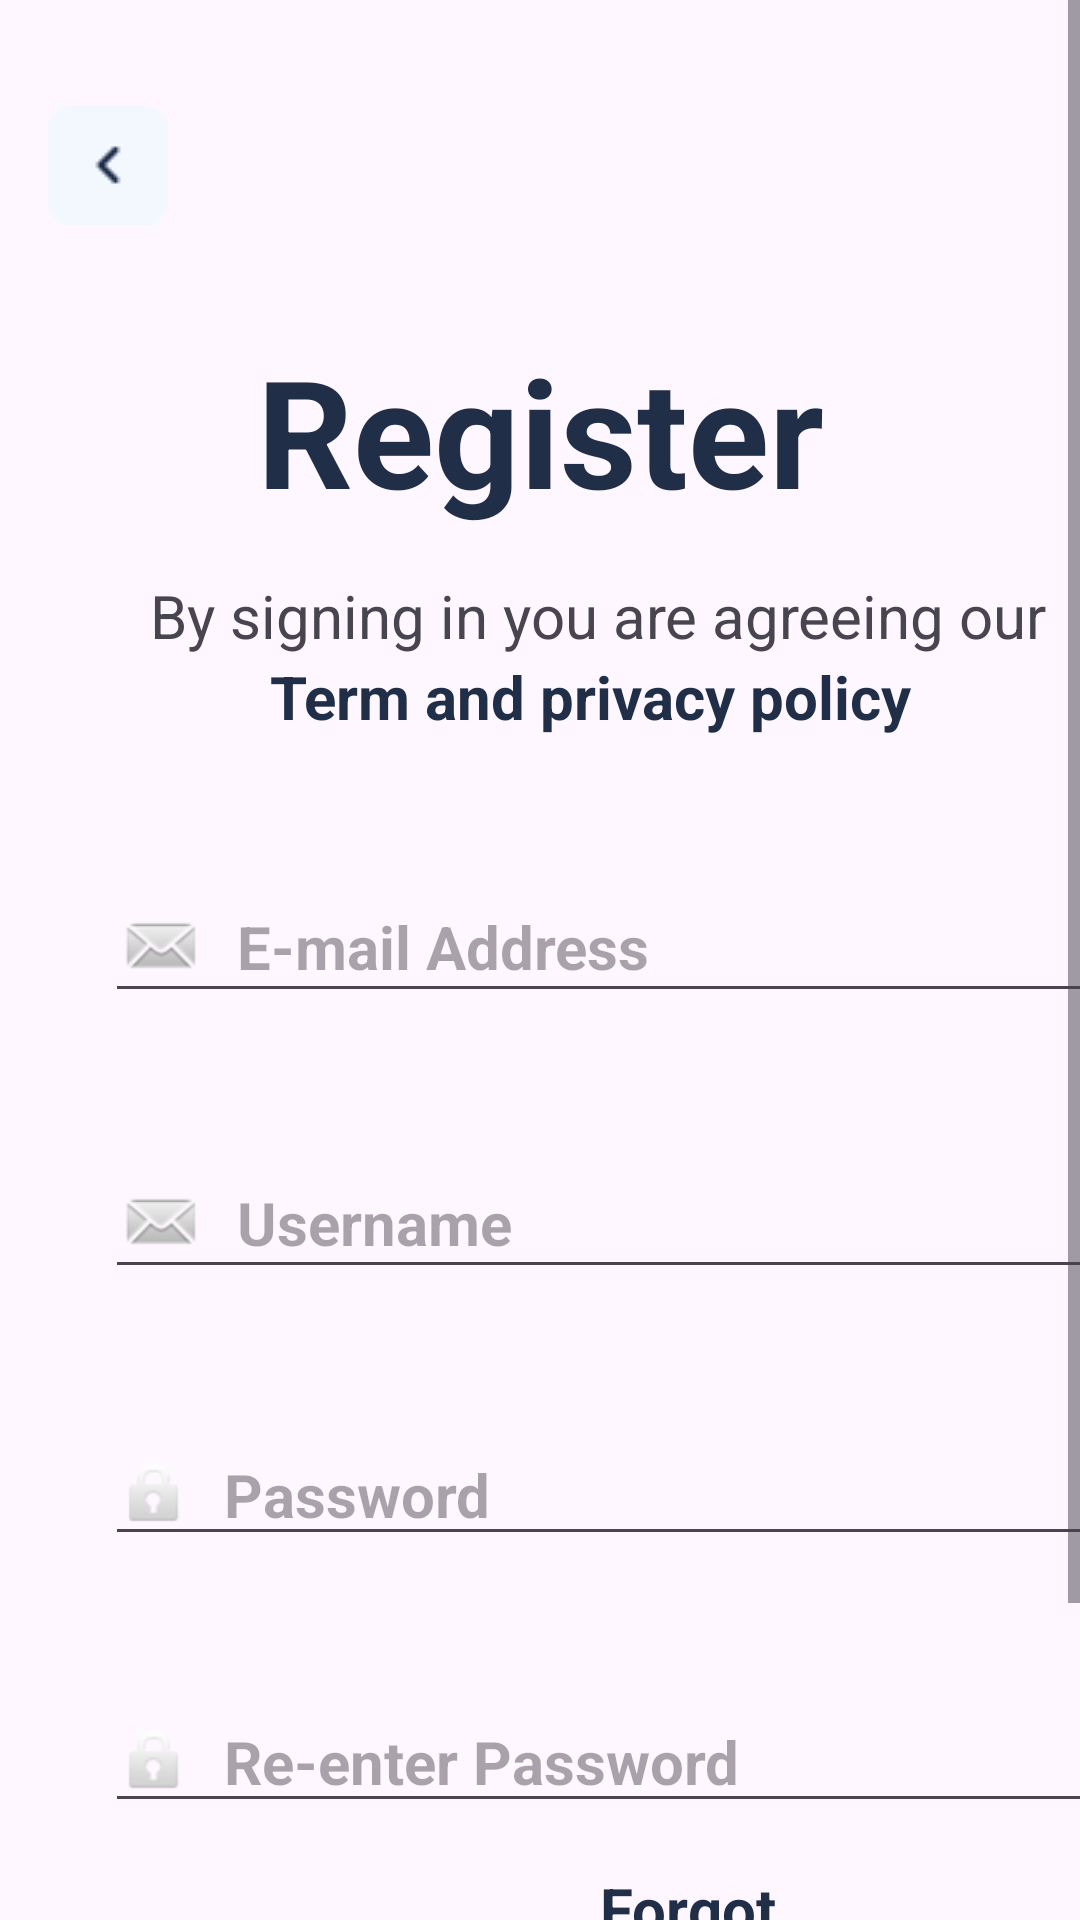

Icon bounding boxes for this 1080px×1920px phone screenshot, format (x1, y1, x2, y2):
Back Button: (95, 146, 121, 184)
